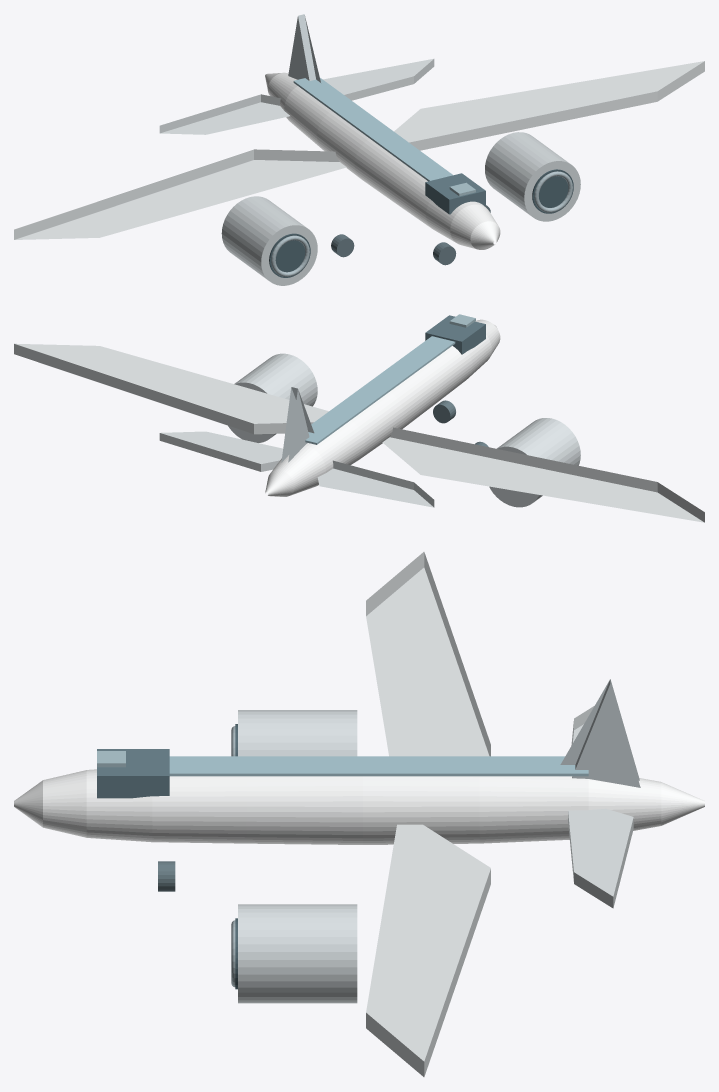
The model's file is aircraft1.glb.
3 renders of one model, top to bottom at view 1: azimuth 30°, elevation 25°; view 2: azimuth 150°, elevation 25°; view 3: azimuth 270°, elevation 25°, orthographic. The views are drawn at different scales.
Visible parts, largest first — view 1: LeftWing, RightWing, Fuselage, Engine_1, Engine_-1, BlueStripe, LeftTail, RightTail, CockpitGlass, VerticalTail, EngineIntake_1, EngineIntake_-1 (+2 smaller); view 2: LeftWing, RightWing, Fuselage, BlueStripe, Engine_-1, Engine_1, RightTail, LeftTail, VerticalTail, CockpitGlass, Wheel2; view 3: Fuselage, RightWing, LeftWing, Engine_1, BlueStripe, Engine_-1, RightTail, VerticalTail, CockpitGlass.
Boxes of the visible parts, x1,y1,x2,y2 form: LeftWing: [14, 149, 346, 239]; RightWing: [394, 61, 704, 150]; Fuselage: [265, 72, 500, 249]; Engine_1: [485, 132, 580, 221]; Engine_-1: [221, 196, 317, 285]; BlueStripe: [293, 78, 452, 181]; LeftTail: [159, 94, 289, 134]; RightTail: [323, 58, 434, 100]; CockpitGlass: [425, 173, 485, 214]; VerticalTail: [288, 14, 320, 82]; EngineIntake_1: [532, 169, 573, 213]; EngineIntake_-1: [269, 233, 310, 277]; LeftWing: [382, 427, 704, 522]; RightWing: [14, 343, 328, 434]; Fuselage: [265, 319, 500, 496]; BlueStripe: [305, 336, 455, 444]; Engine_-1: [489, 418, 580, 507]; Engine_1: [228, 353, 317, 442]; RightTail: [159, 431, 282, 471]; LeftTail: [317, 460, 434, 507]; VerticalTail: [281, 387, 314, 462]; CockpitGlass: [425, 315, 485, 354]; Wheel2: [433, 400, 455, 423]; Fuselage: [14, 769, 704, 844]; RightWing: [366, 824, 490, 1076]; LeftWing: [366, 552, 490, 756]; Engine_1: [238, 904, 357, 1003]; BlueStripe: [169, 756, 588, 776]; Engine_-1: [238, 710, 357, 756]; RightTail: [568, 808, 633, 908]; VerticalTail: [560, 679, 640, 787]; CockpitGlass: [97, 749, 169, 798].
Bounding box in the file's own units: 8.3 × 1.69 × 4.75.
